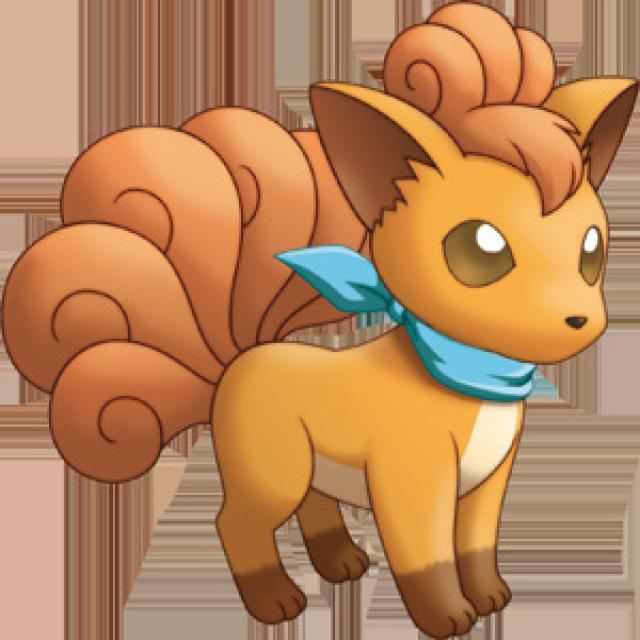Vulpix: (198, 75, 613, 620)
